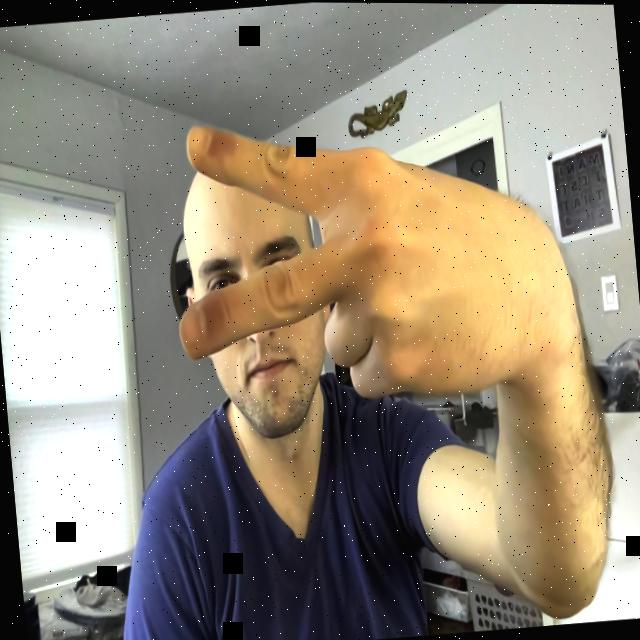Scissors: (158, 82, 586, 428)
